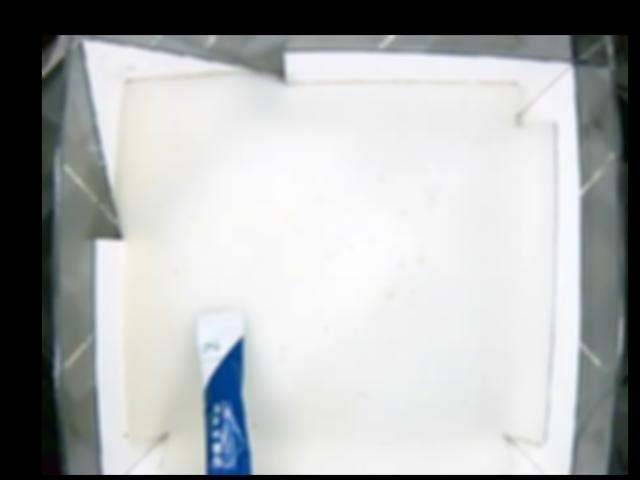Medicine: (195, 311, 251, 473)
